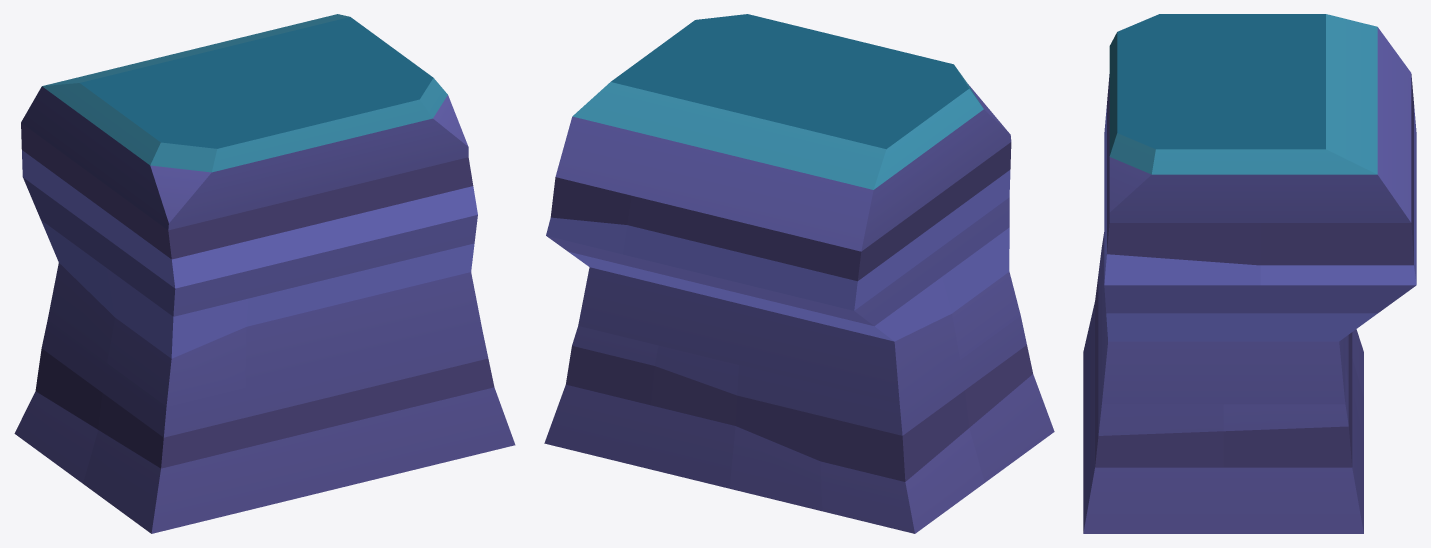
Rendered from StoneWall022.fbx.
The picture shows the model from 3 angles, left to right: view 1: azimuth 30°, elevation 25°; view 2: azimuth 150°, elevation 25°; view 3: azimuth 270°, elevation 25°; orthographic projection. The views are drawn at different scales.
Visible parts, largest first — view 1: StoneWall022; view 2: StoneWall022; view 3: StoneWall022.
Boxes of the visible parts, box(x1,y1,x2,y2) form: StoneWall022: box(14, 14, 515, 533); StoneWall022: box(544, 14, 1054, 533); StoneWall022: box(1083, 14, 1416, 533).
Bounding box in the file's own units: 482 × 446 × 373.
